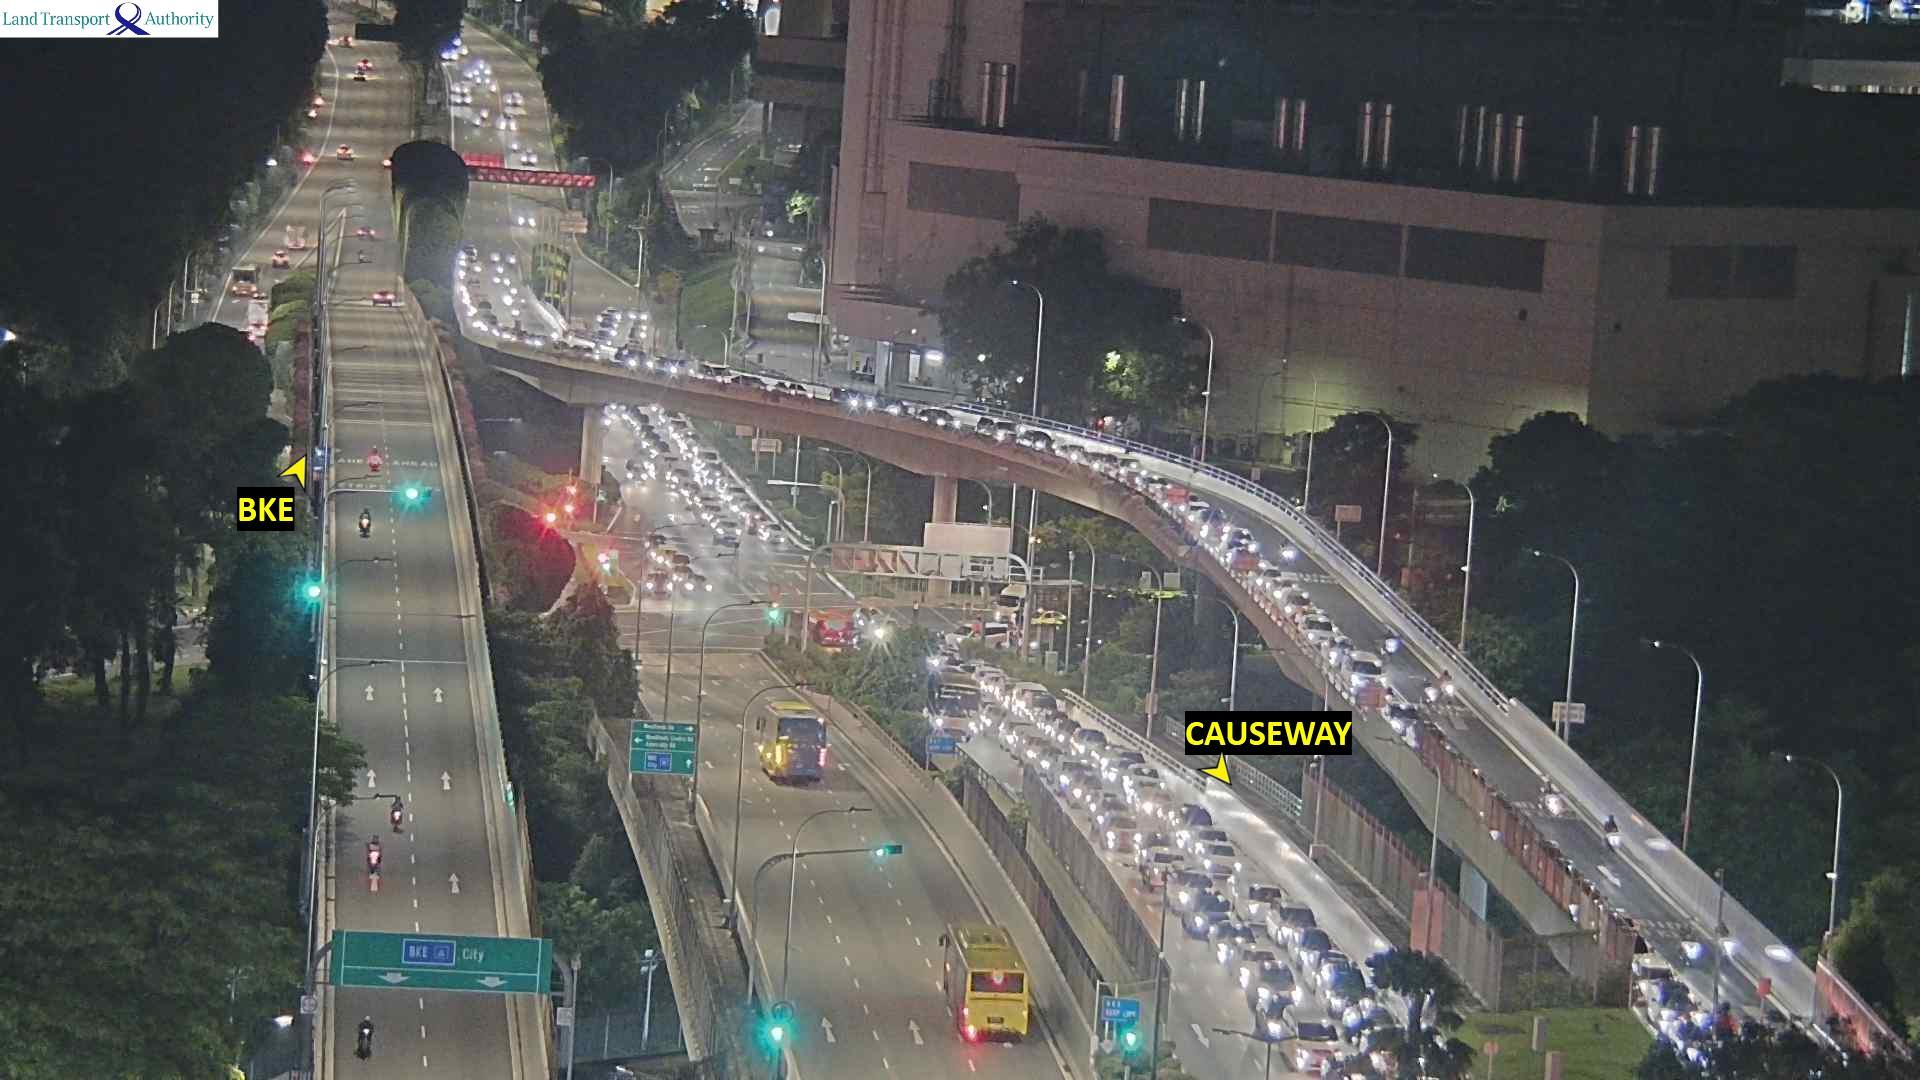vehicle-causeway-johor: (1283, 1006, 1346, 1072), (933, 671, 980, 741), (1634, 952, 1678, 1007), (1168, 871, 1221, 915), (1184, 901, 1236, 945), (1215, 924, 1263, 969), (1249, 958, 1291, 1001), (1172, 808, 1215, 849), (1105, 818, 1152, 855), (1261, 995, 1303, 1034), (1146, 849, 1188, 887), (1082, 791, 1127, 823), (1015, 732, 1056, 767), (1537, 773, 1563, 827), (1095, 807, 1140, 837), (1236, 945, 1273, 981), (1122, 767, 1160, 801), (1198, 508, 1235, 542), (1227, 525, 1259, 563), (1113, 455, 1153, 485), (972, 414, 1012, 444), (563, 334, 611, 359), (1387, 696, 1417, 735), (1168, 488, 1206, 518), (1139, 794, 1178, 823), (1258, 569, 1297, 598), (1343, 651, 1375, 685), (1025, 694, 1064, 721), (1056, 442, 1091, 472), (1203, 844, 1239, 873), (1187, 829, 1226, 855), (1010, 687, 1050, 712), (1303, 611, 1332, 645), (1680, 921, 1705, 960), (681, 481, 712, 512), (1006, 725, 1041, 752), (1056, 768, 1092, 794), (1036, 705, 1075, 729), (1137, 475, 1176, 499), (672, 474, 710, 498), (1156, 807, 1187, 836), (836, 390, 873, 414), (757, 520, 790, 546), (1048, 757, 1078, 785), (999, 684, 1029, 712), (1074, 733, 1112, 755), (1027, 744, 1059, 770), (1604, 809, 1622, 855), (1324, 630, 1349, 663), (1091, 795, 1120, 822), (1022, 427, 1051, 454), (874, 393, 905, 418), (1282, 587, 1309, 615), (1109, 752, 1138, 778), (469, 299, 498, 325), (671, 425, 701, 450), (450, 246, 482, 269), (647, 447, 674, 474), (700, 506, 729, 531), (625, 413, 655, 436), (1067, 779, 1093, 805), (927, 406, 957, 428), (459, 273, 487, 296), (702, 366, 731, 388), (661, 457, 685, 483), (1437, 664, 1454, 699), (1098, 744, 1125, 766), (718, 482, 742, 506), (620, 350, 650, 369), (1034, 746, 1061, 767), (623, 323, 656, 340), (1059, 724, 1087, 744), (713, 522, 741, 542), (1022, 740, 1053, 758), (1385, 631, 1401, 665), (737, 371, 767, 389), (1089, 451, 1112, 474), (1039, 754, 1063, 776), (692, 491, 717, 512), (619, 407, 648, 425), (586, 317, 618, 333), (745, 508, 768, 530), (1417, 674, 1435, 702), (694, 451, 718, 472), (1045, 715, 1074, 732), (778, 381, 807, 398), (728, 493, 751, 514), (623, 334, 647, 354), (664, 359, 691, 375), (665, 417, 688, 435), (685, 441, 705, 461), (633, 421, 659, 436), (480, 316, 500, 335), (638, 430, 657, 450), (373, 290, 392, 308), (508, 299, 525, 318), (528, 331, 549, 346), (487, 248, 502, 269), (497, 274, 516, 290), (506, 251, 520, 269), (588, 329, 606, 341), (507, 326, 520, 337)
vehicle-causeway-singapore: (967, 921, 1042, 1042), (762, 699, 838, 789), (353, 1016, 375, 1050), (390, 798, 409, 835), (367, 836, 380, 874), (359, 498, 371, 536)
